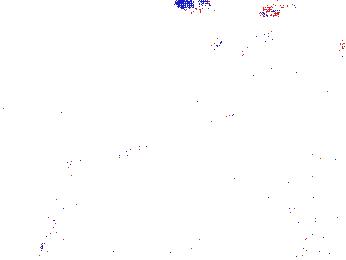glassfish: (42, 136, 147, 184)
red belly glassfish: (182, 107, 235, 128), (260, 2, 292, 17)
redtail glassfish: (205, 22, 278, 55)
